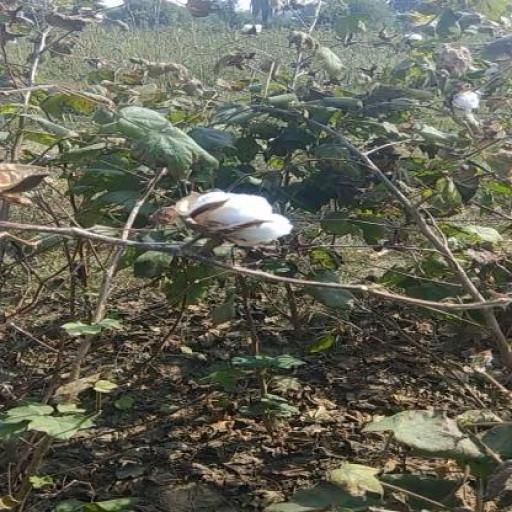cotton_ready: (154, 182, 295, 280)
